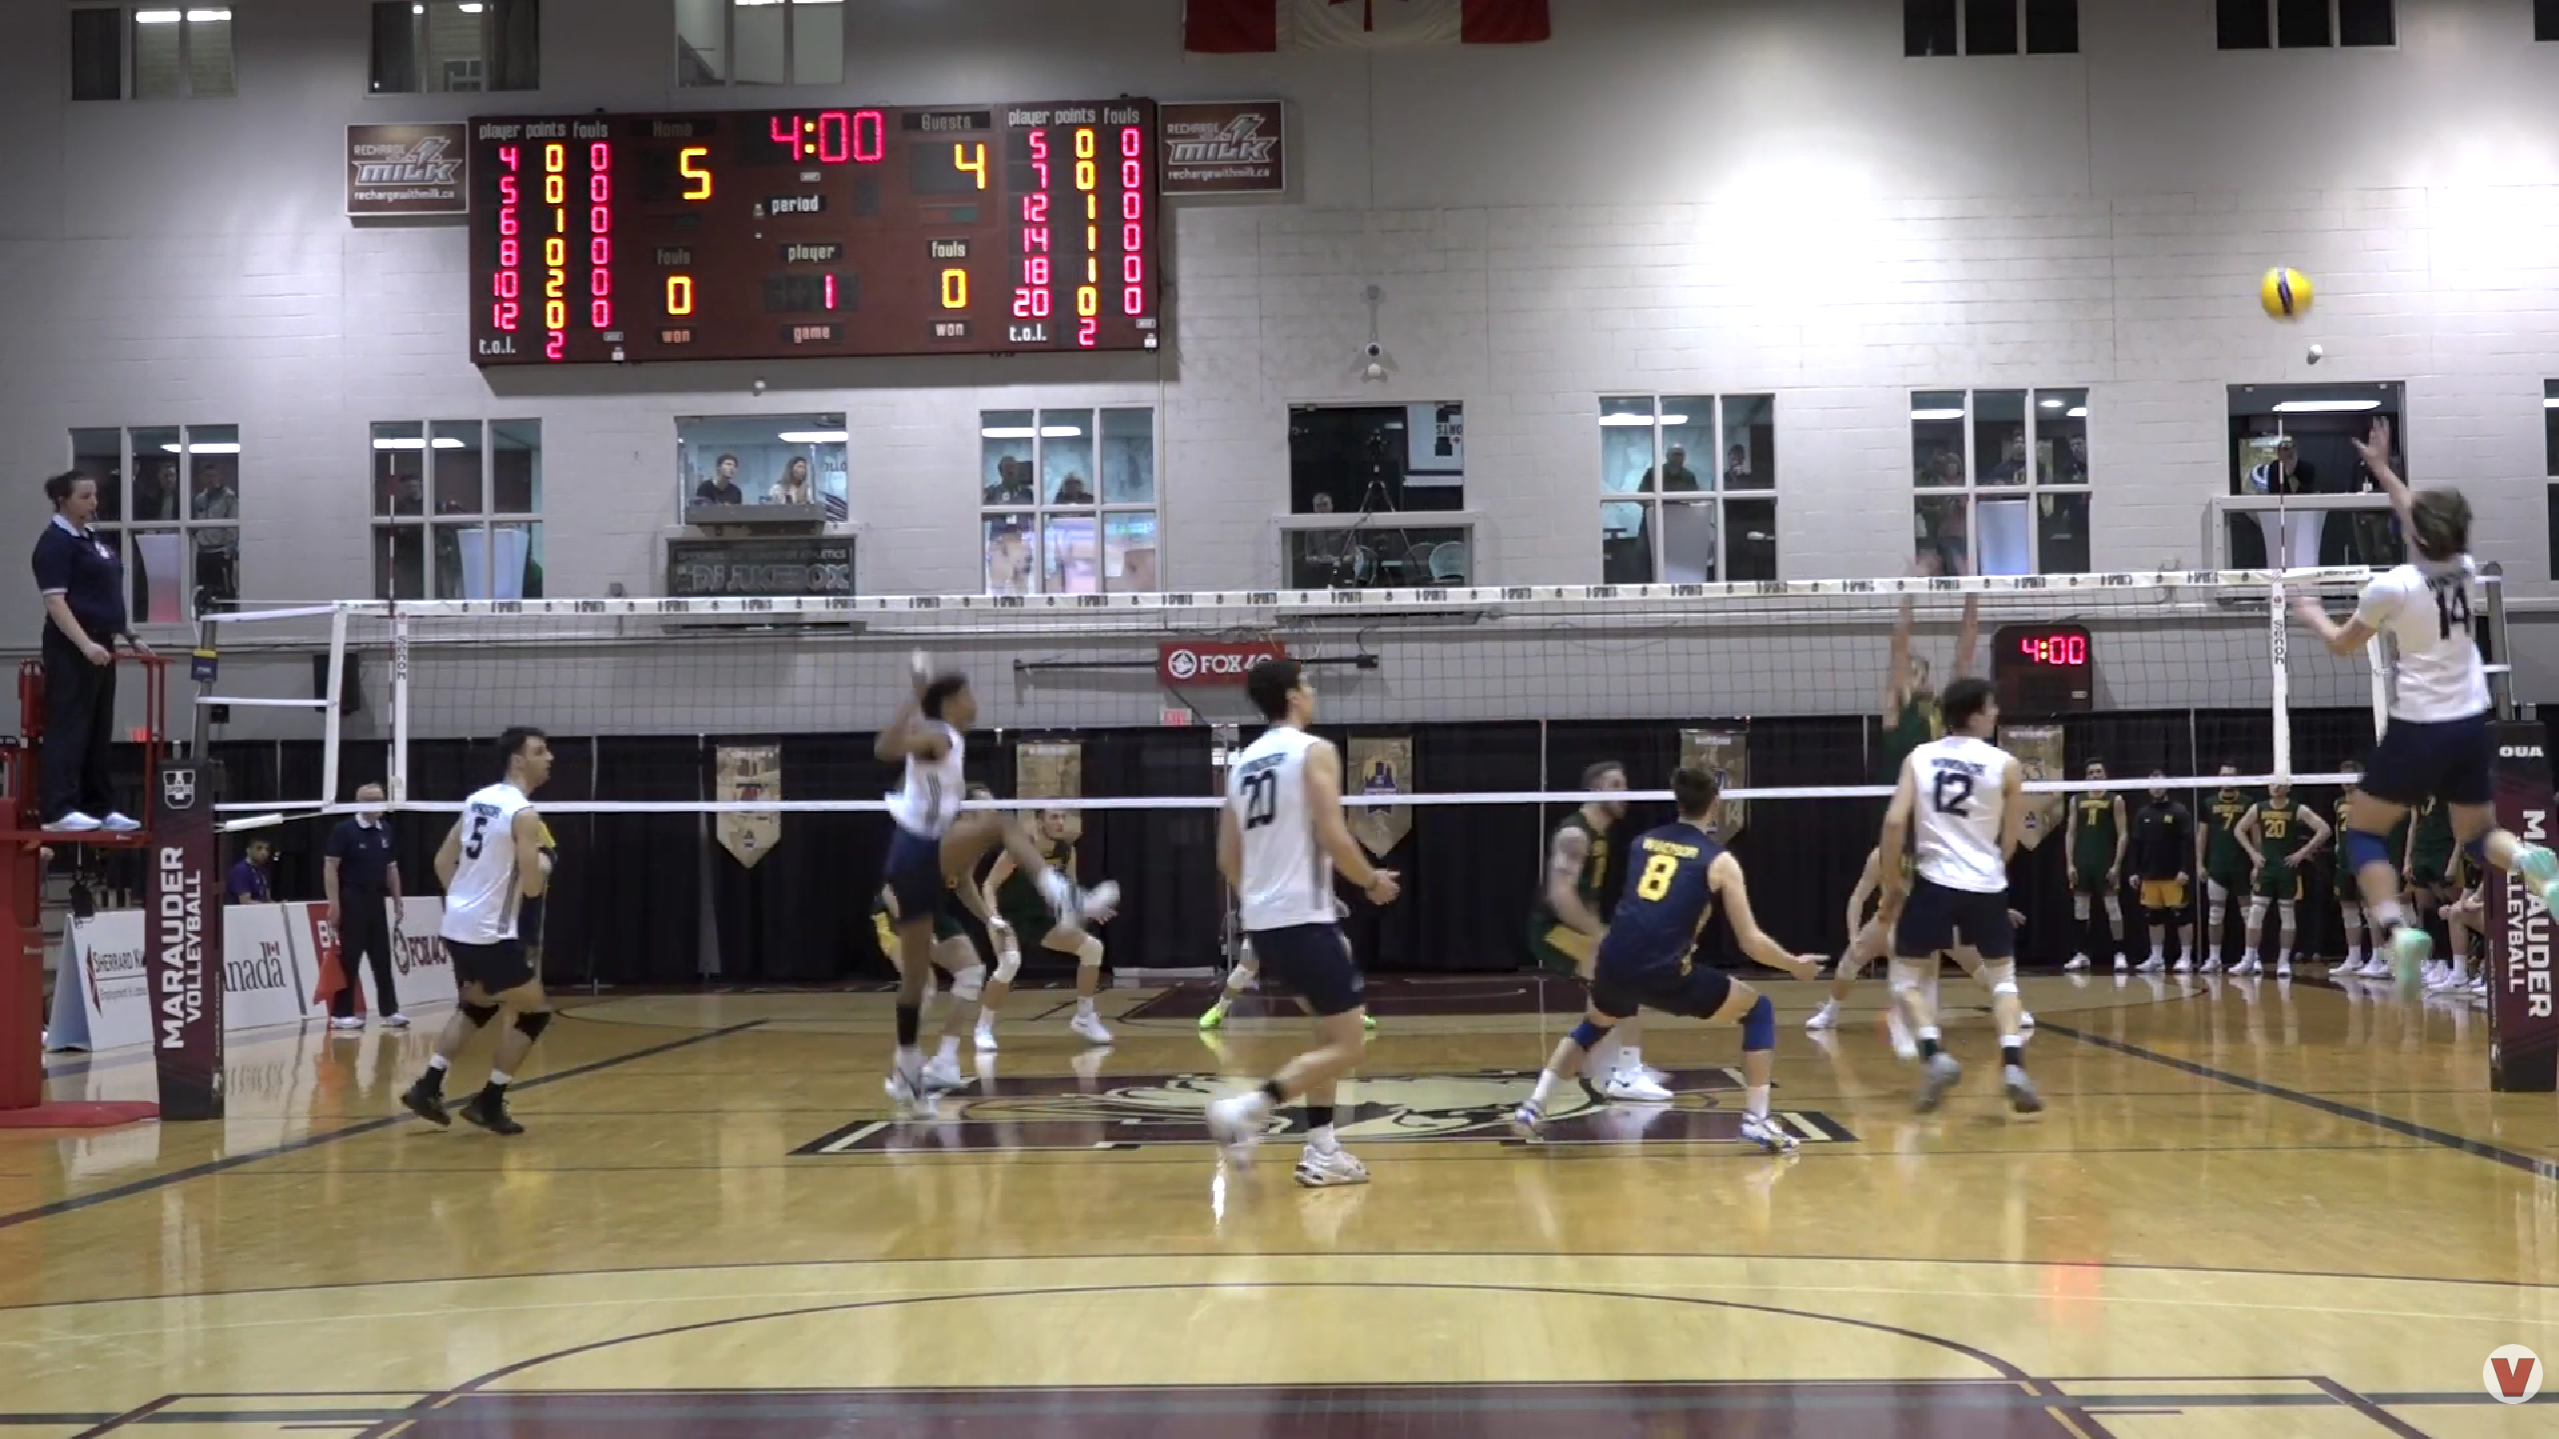Ball: (2258, 265, 2315, 323)
